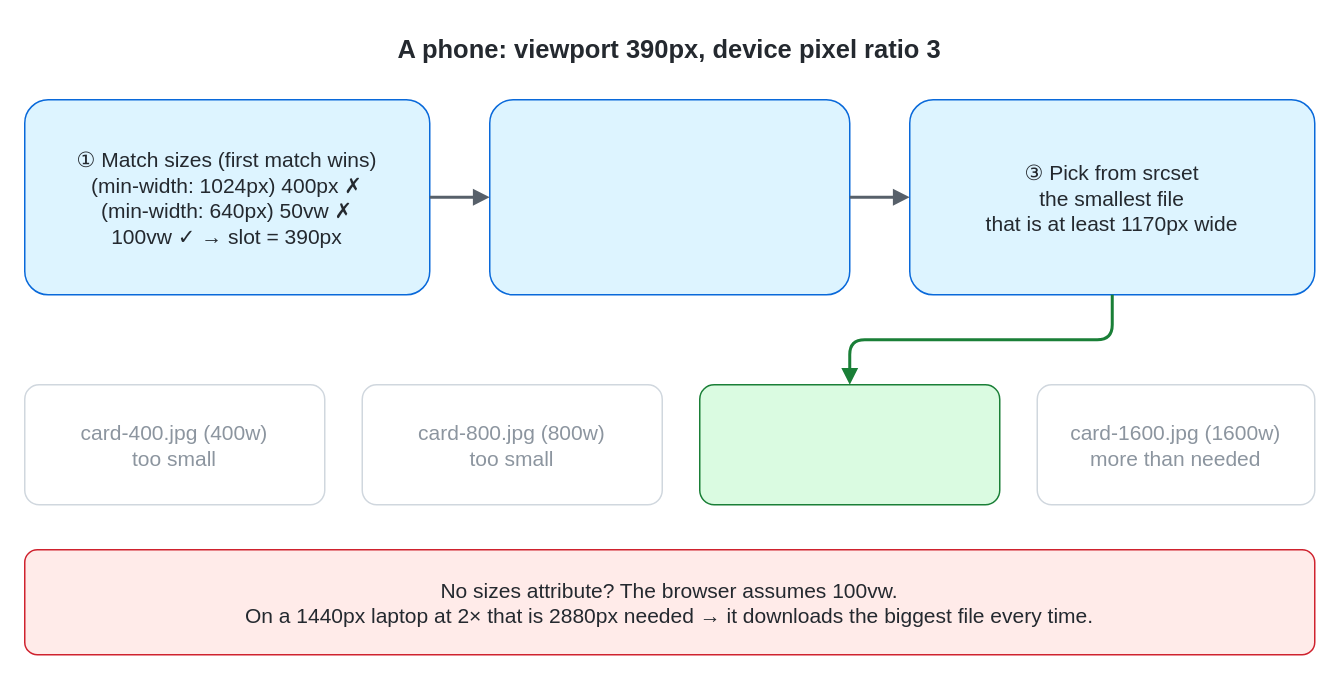
Some shapes in this 1340 by 680 pixel diagram are drawn without their labels. Each missing label, with the box of its shape:
card-1200.jpg (1200w) ✓ chosen: (698, 383, 1000, 505)
② Multiply by DPR 390px × 3 = 1170 pixels needed: (488, 98, 850, 295)
